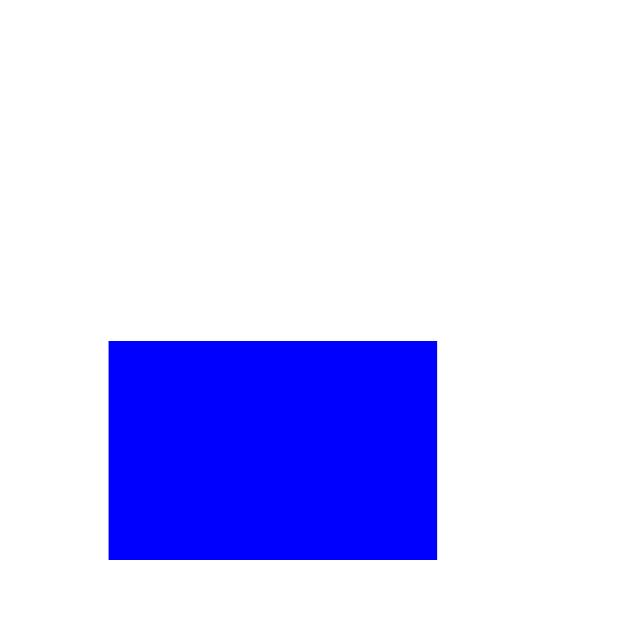Rectangle: (76, 300, 517, 604)
